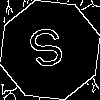S: (25, 25, 71, 79)
